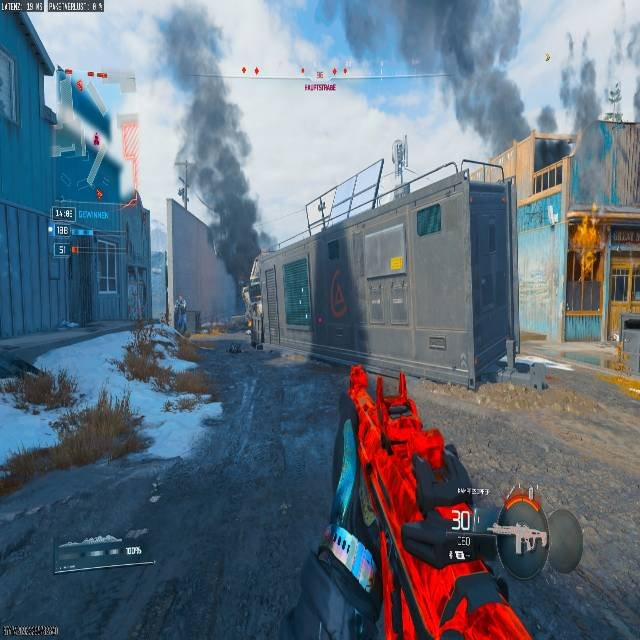player: (173, 296, 188, 330)
